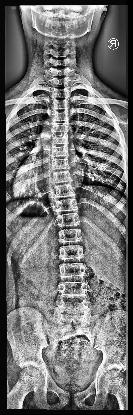Vertebrae: (56, 297, 91, 310), (58, 264, 88, 278), (58, 283, 88, 297), (58, 229, 84, 243), (59, 246, 84, 260), (56, 214, 82, 227), (55, 200, 79, 212), (48, 110, 71, 122), (48, 121, 71, 133), (53, 186, 76, 198), (48, 99, 72, 110), (49, 134, 71, 146), (49, 147, 71, 159), (50, 160, 72, 172), (51, 172, 72, 184), (49, 88, 71, 98), (51, 77, 70, 87)
